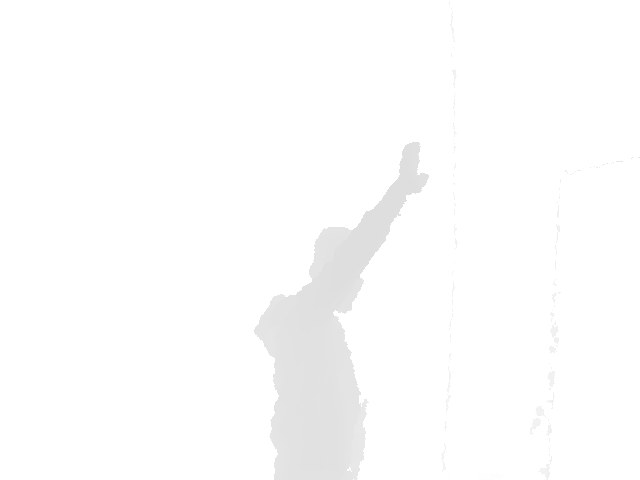hand: (396, 140, 432, 192)
head: (308, 226, 364, 313)
person: (252, 140, 431, 480)
